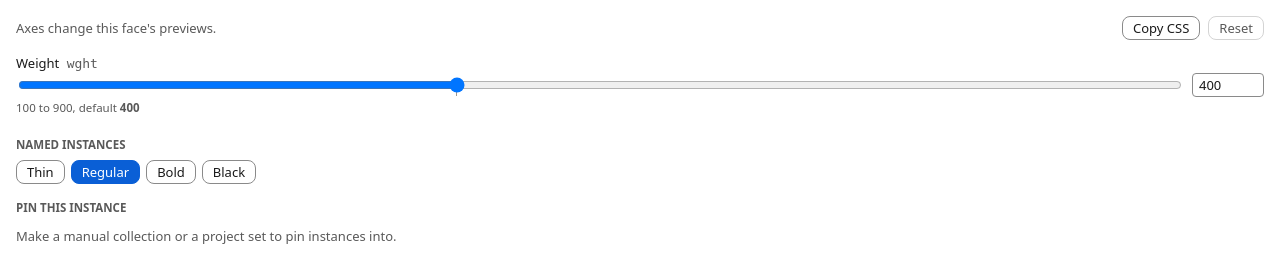
inspector axes tab › moves the axis with the slider and with a typed, clamped value
The width and height of the screenshot is (1280, 261).
Set the slider labelled "Weight wght" to "650" at (815, 85), box [18,74,1182,96]
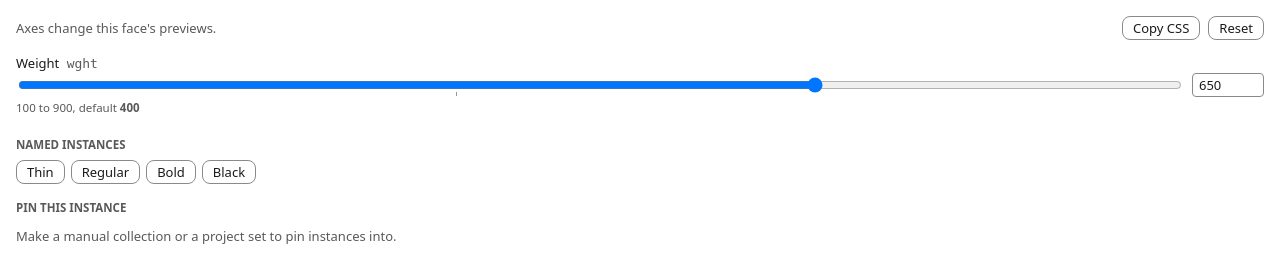
Expected: the field named "Weight (wght) value" holds "650"
Replace the text in the field named "Weight (wght) value" with "2000" at (1228, 85), box [1192,73,1264,97]
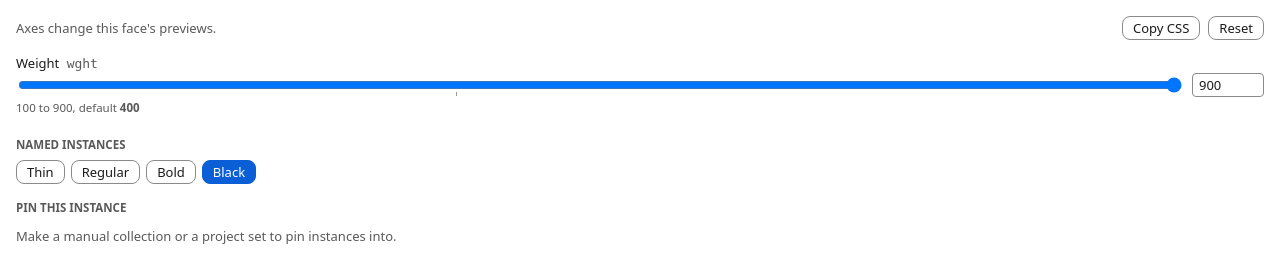
Expected: the field named "Weight (wght) value" holds "900", [1192,73,1264,97]
Expected: the slider labelled "Weight wght" holds "900", [18,74,1182,96]
